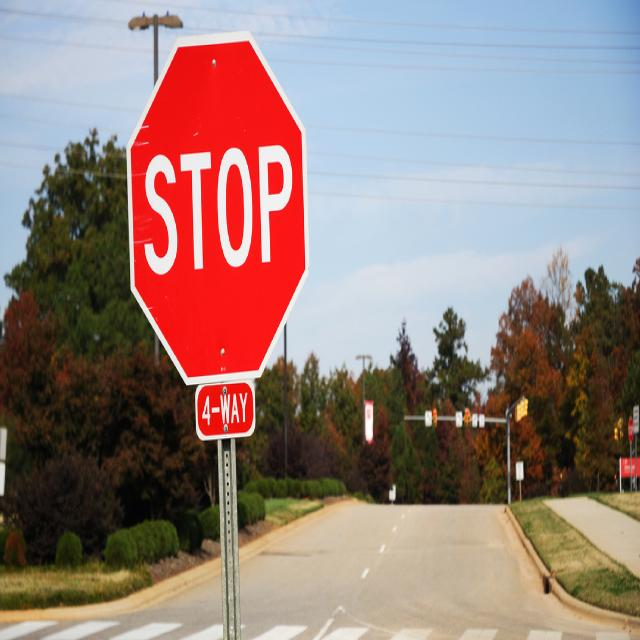stop-sign: (115, 43, 317, 430)
